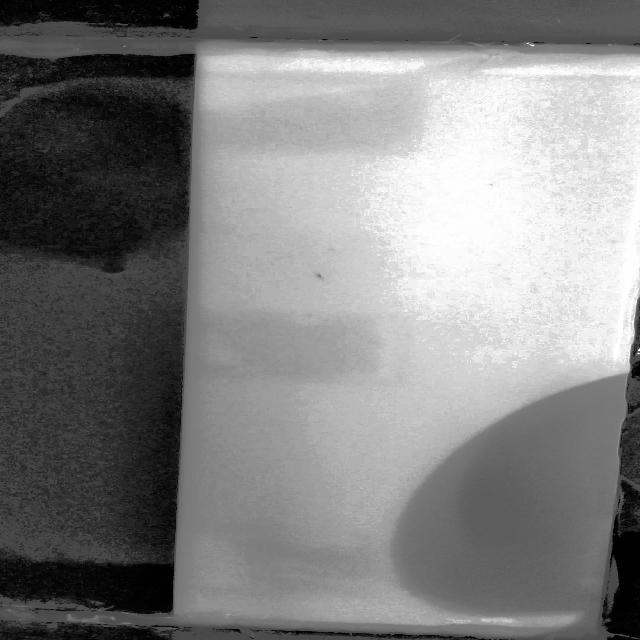shrimp: (301, 269, 330, 282)
